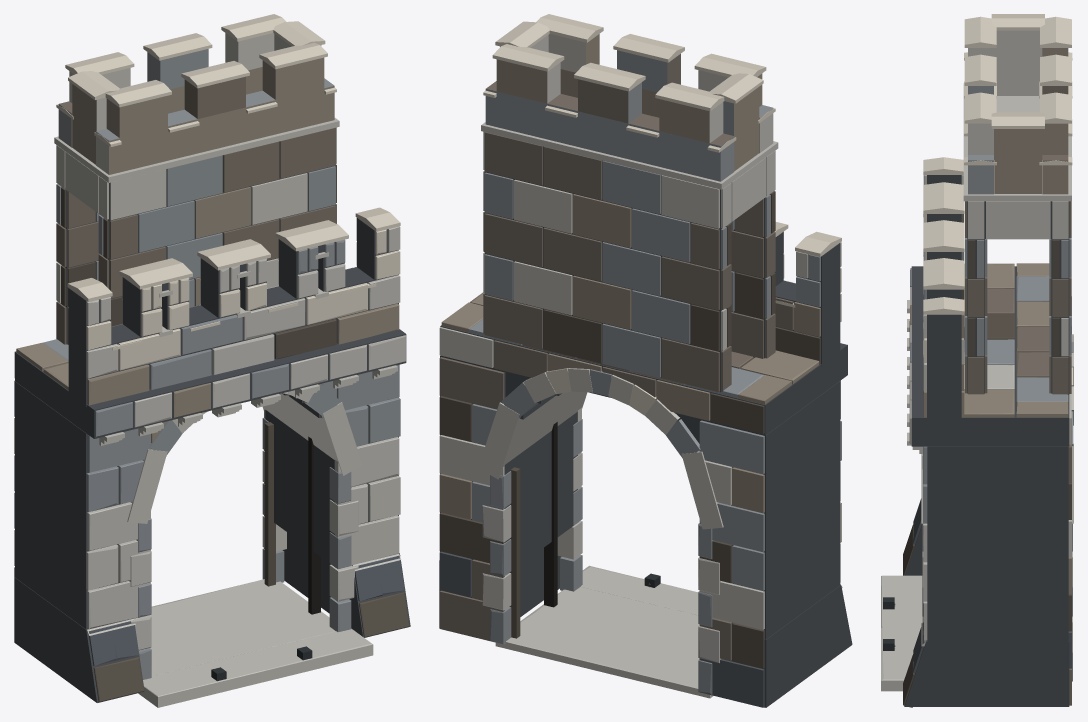
Rendered from mdvl_castle_curtain_gate_01.glb.
3 views of the same model, side by side, from view 1: azimuth 30°, elevation 25°; view 2: azimuth 150°, elevation 25°; view 3: azimuth 270°, elevation 25° (orthographic). The views are drawn at different scales.
Visible parts, largest first — view 1: mdvl_castle_curtain_gate_01; view 2: mdvl_castle_curtain_gate_01; view 3: mdvl_castle_curtain_gate_01.
Part boxes in pixels (x1,y1,x2,y2): mdvl_castle_curtain_gate_01: (14,14,410,707); mdvl_castle_curtain_gate_01: (439,14,852,707); mdvl_castle_curtain_gate_01: (881,14,1073,707).
Size of the model in its own units: 4.02 by 7.04 by 2.15.
Materials: 1 (1 with a texture image).
